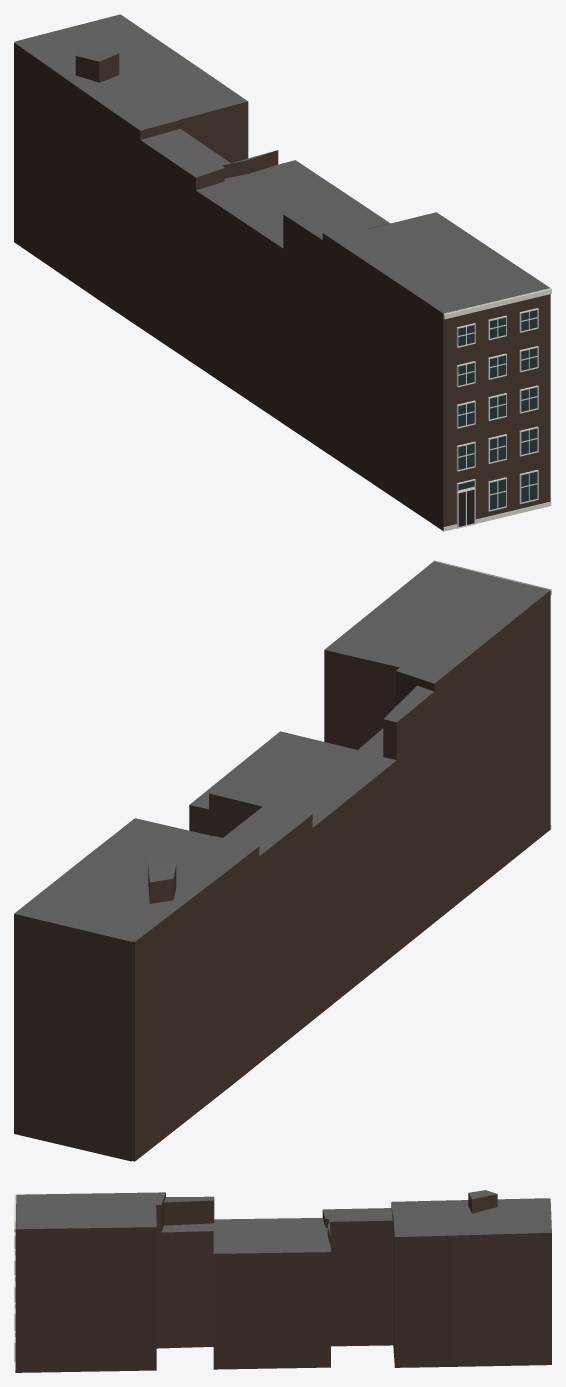
3 views of the same model, one above another, from view 1: azimuth 30°, elevation 25°; view 2: azimuth 150°, elevation 25°; view 3: azimuth 270°, elevation 25° (orthographic). The views are drawn at different scales.
Parts seen in each view (by area): view 1: spec-0363100012169338; view 2: spec-0363100012169338; view 3: spec-0363100012169338.
Boxes of the visible parts, bbox=[...] form: spec-0363100012169338: bbox=[14, 14, 551, 531]; spec-0363100012169338: bbox=[14, 560, 551, 1161]; spec-0363100012169338: bbox=[14, 1190, 551, 1372].
Bounding box in the file's own units: 10.38 × 16.49 × 55.18.
